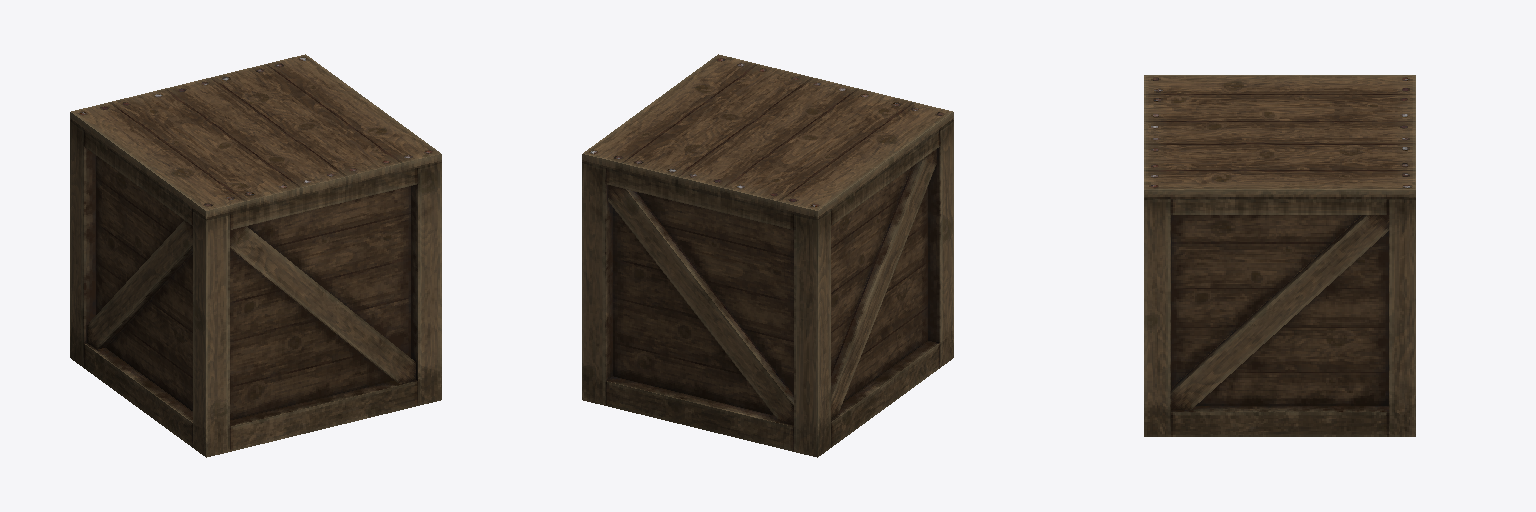
The picture shows the model from 3 angles: view 1: azimuth 30°, elevation 25°; view 2: azimuth 150°, elevation 25°; view 3: azimuth 270°, elevation 25°; orthographic projection.
Parts seen in each view (by area): view 1: Wooden_box_01_Cube.003; view 2: Wooden_box_01_Cube.003; view 3: Wooden_box_01_Cube.003.
Boxes of the visible parts, <box> form: Wooden_box_01_Cube.003: <box>70,54,441,457</box>; Wooden_box_01_Cube.003: <box>582,54,953,457</box>; Wooden_box_01_Cube.003: <box>1144,75,1415,436</box>.
Size of the model in its own units: 1 by 1 by 1.
Materials: 1 (1 with a texture image).